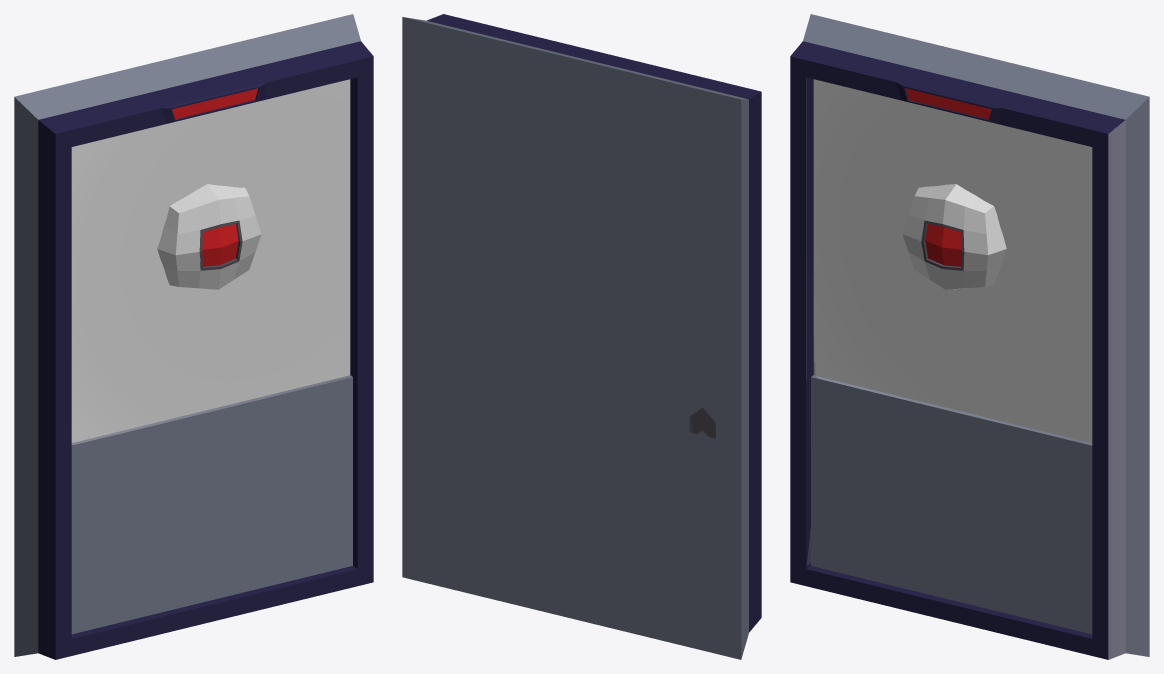
Rendered from Scanner.fbx.
3 renders of one model, left to right at view 1: azimuth 30°, elevation 25°; view 2: azimuth 150°, elevation 25°; view 3: azimuth 330°, elevation 25°, orthographic.
Parts seen in each view (by area): view 1: Cube; view 2: Cube; view 3: Cube.
Part boxes in pixels (x1=…): Cube: x1=14, y1=14, x2=373, y2=659; Cube: x1=402, y1=14, x2=761, y2=659; Cube: x1=790, y1=14, x2=1149, y2=659.
Bounding box in the file's own units: 177 × 280 × 34.66.
1 material, 1 textured.
